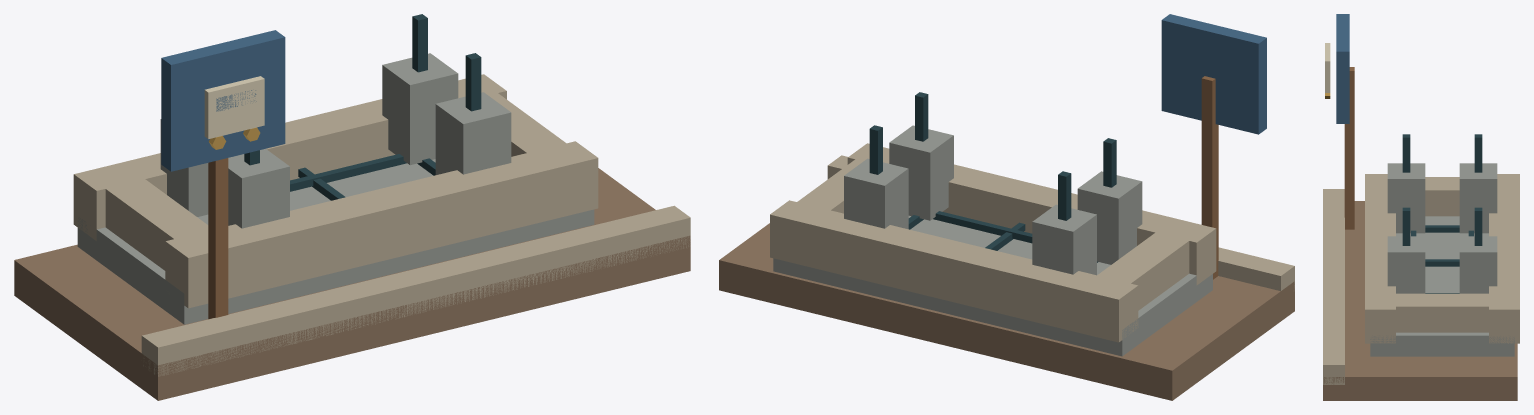
Rendered from bus-stop-seabreeze-foundation.glb.
3 views of the same model, side by side, from view 1: azimuth 30°, elevation 25°; view 2: azimuth 150°, elevation 25°; view 3: azimuth 270°, elevation 25° (orthographic). The views are drawn at different scales.
Parts seen in each view (by area): view 1: bus-stop; view 2: bus-stop; view 3: bus-stop.
Boxes of the visible parts, x1,y1,x2,y2 form: bus-stop: (14, 14, 690, 400); bus-stop: (719, 14, 1294, 400); bus-stop: (1323, 14, 1519, 400).
Bounding box in the file's own units: 1.88 × 1.09 × 0.89.
